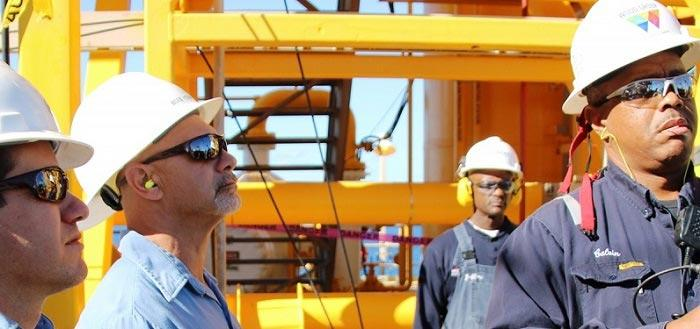helmet: (562, 1, 696, 115), (1, 51, 97, 176), (65, 75, 200, 163), (459, 139, 525, 178)
